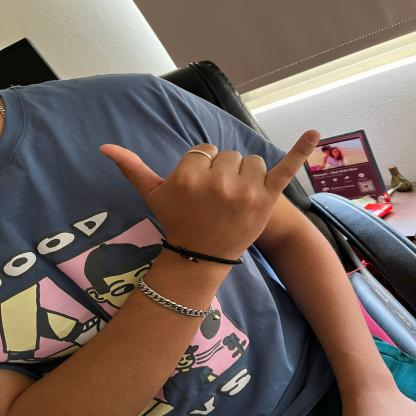Y: (98, 124, 321, 252)
